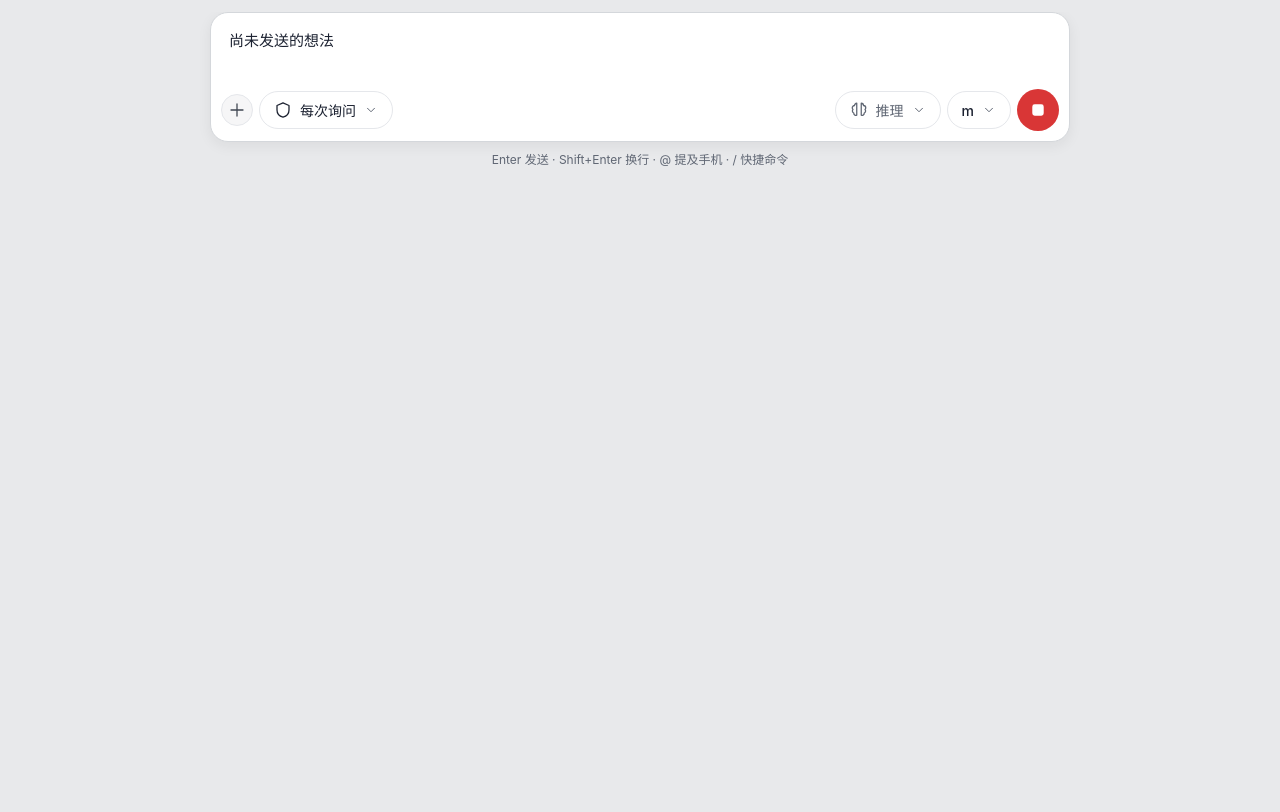
D28 AC-1: plus menu opens a real side conversation below turtle without clearing the main draft or stopping it
This screenshot has width=1280, height=812.
Step 1. Click the button named "添加" → (237, 110), box [221,94,253,126]
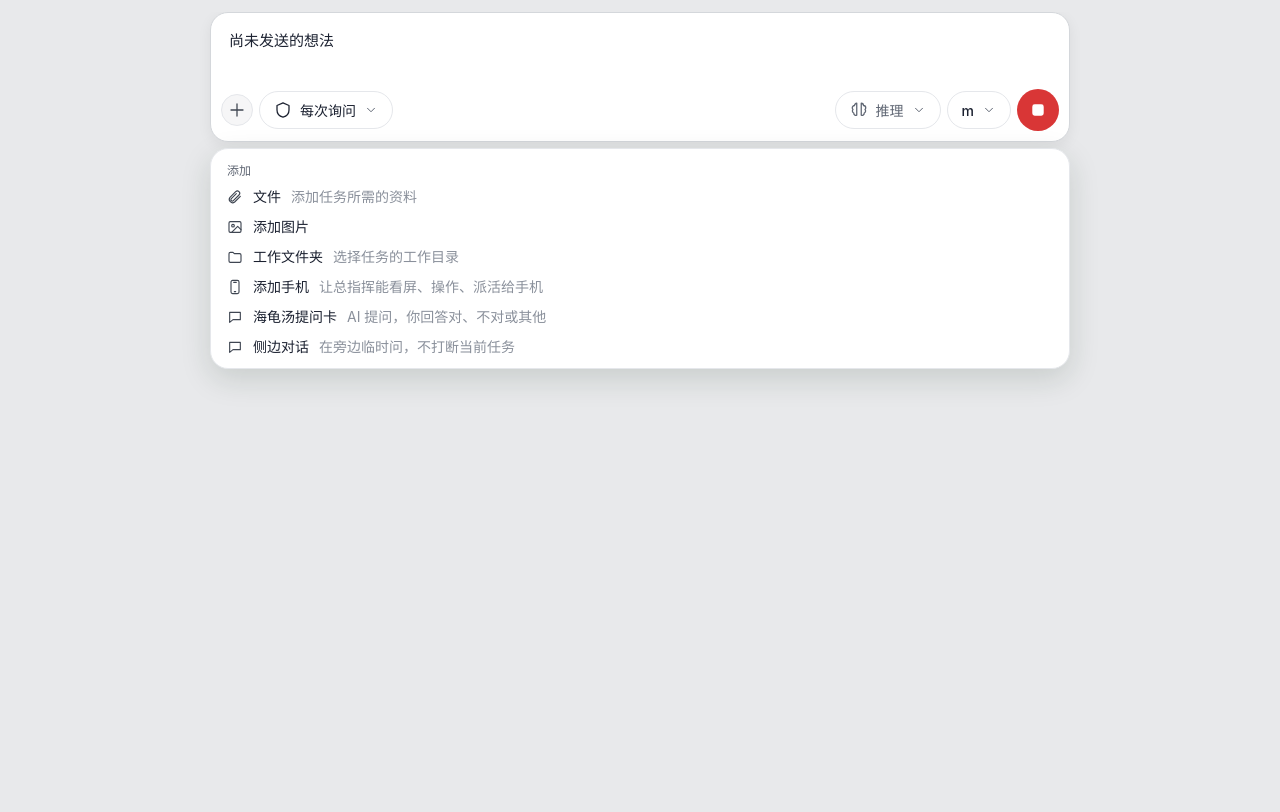
Step 2. Click the menu item with class "menu__item" showing "侧边对话 在旁边临时问，不打断当前任务" → (281, 347), box [217,332,1063,362]
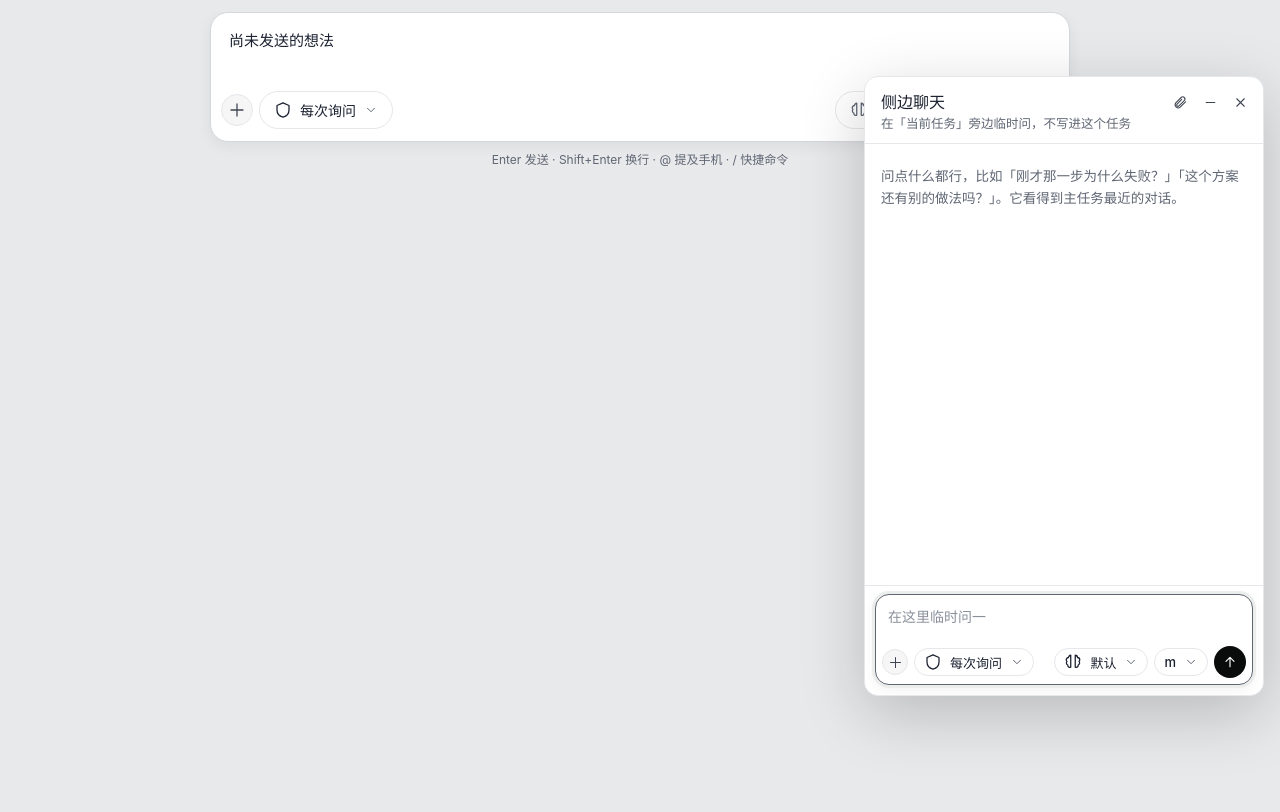
Expected: the element with class "side-chat" is shown, [864,76,1264,696]
